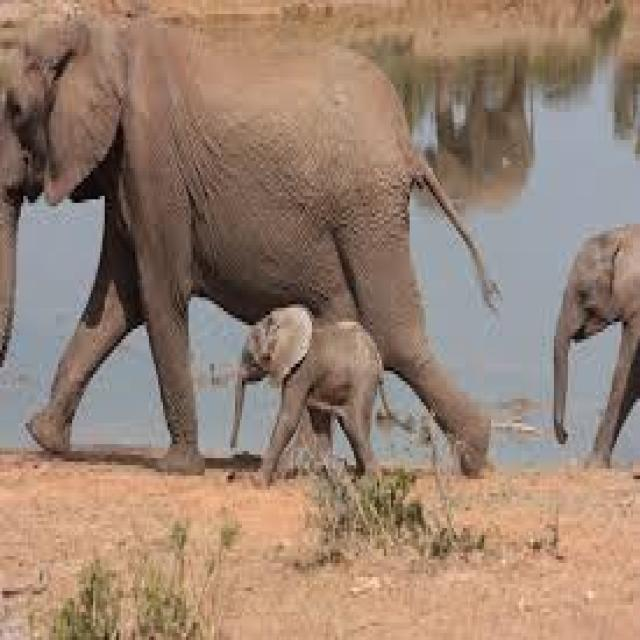Elephant: (0, 0, 500, 479), (228, 301, 391, 486), (552, 220, 638, 469)
